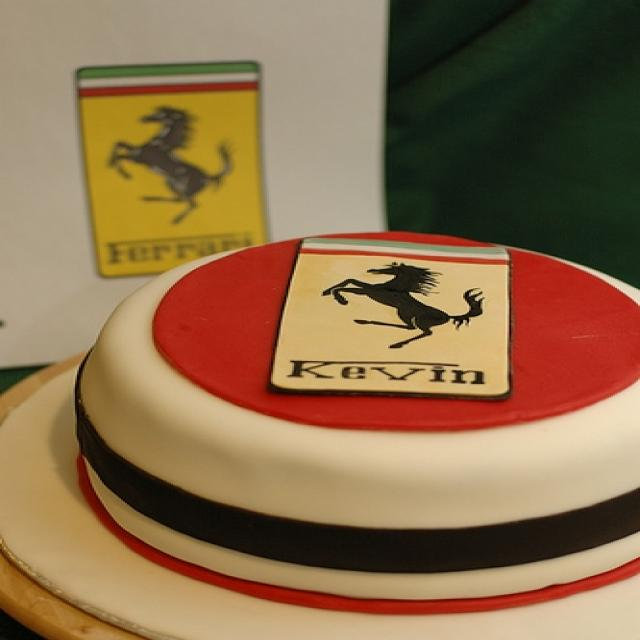ferrari: (78, 61, 276, 279), (272, 237, 510, 370)
